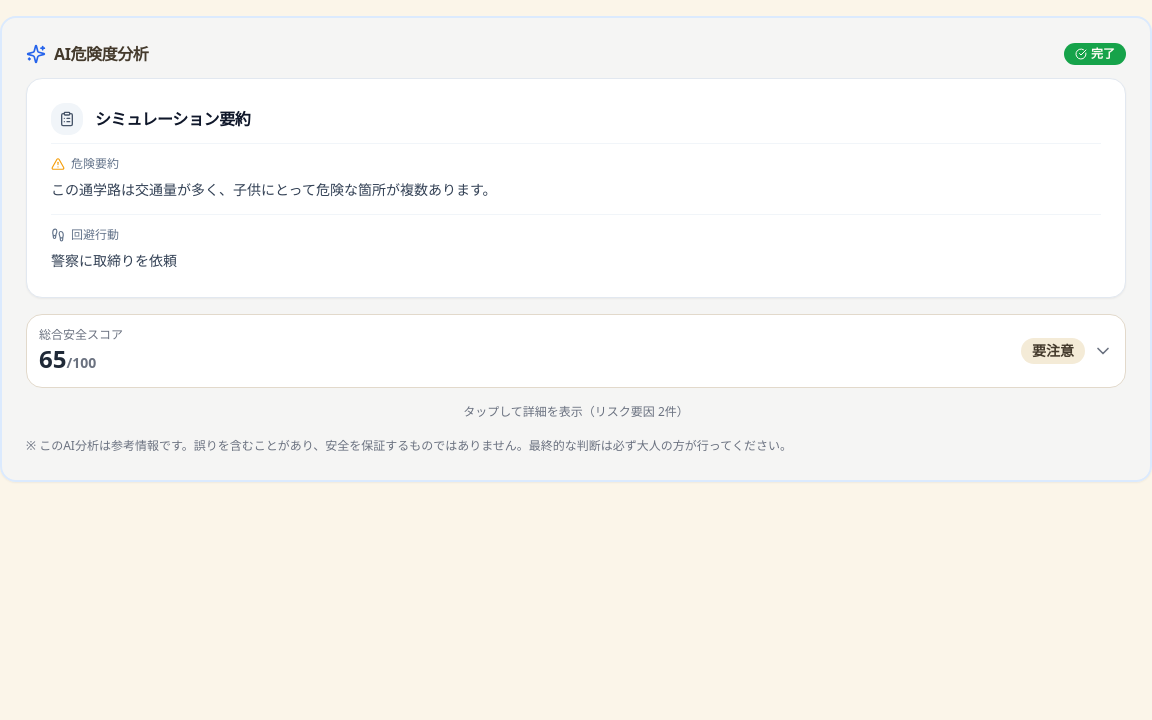
VlmAnalysisPanel › should collapse details when toggle button is clicked again
Step 1. Click the button "総合安全スコア 65/100 要注意" → {"x": 81, "y": 334}, box [26,314,1126,388]
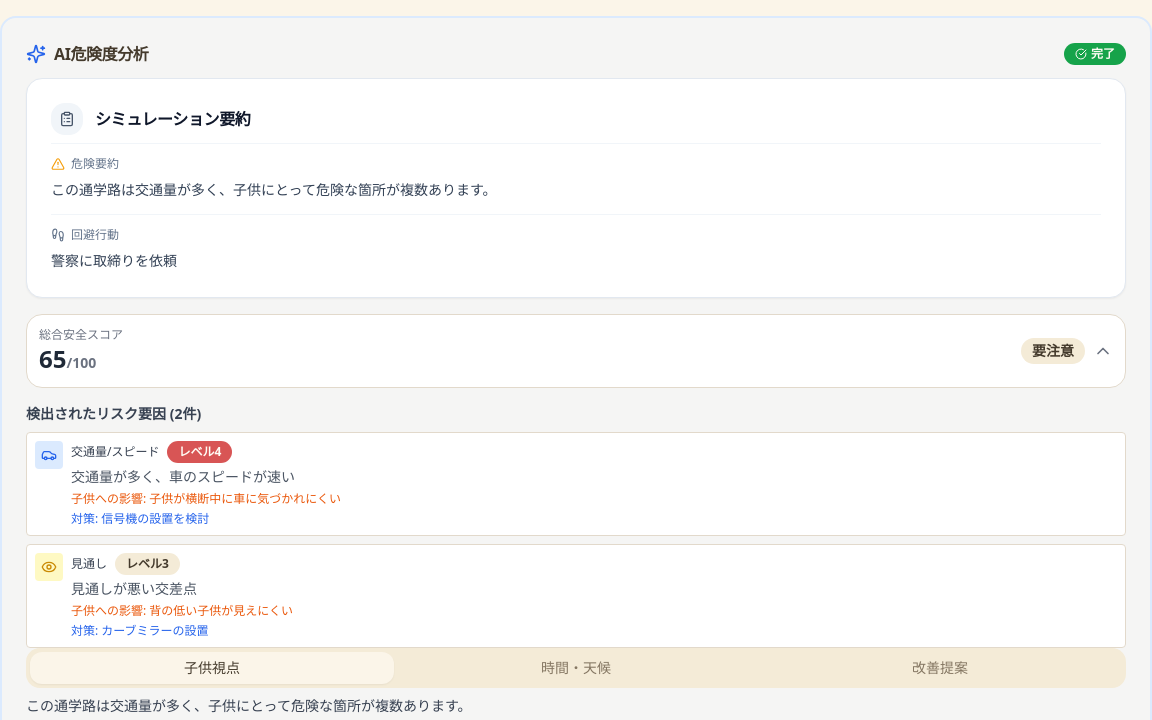
Step 2. Click the button "総合安全スコア 65/100 要注意" → {"x": 81, "y": 334}, box [26,314,1126,388]
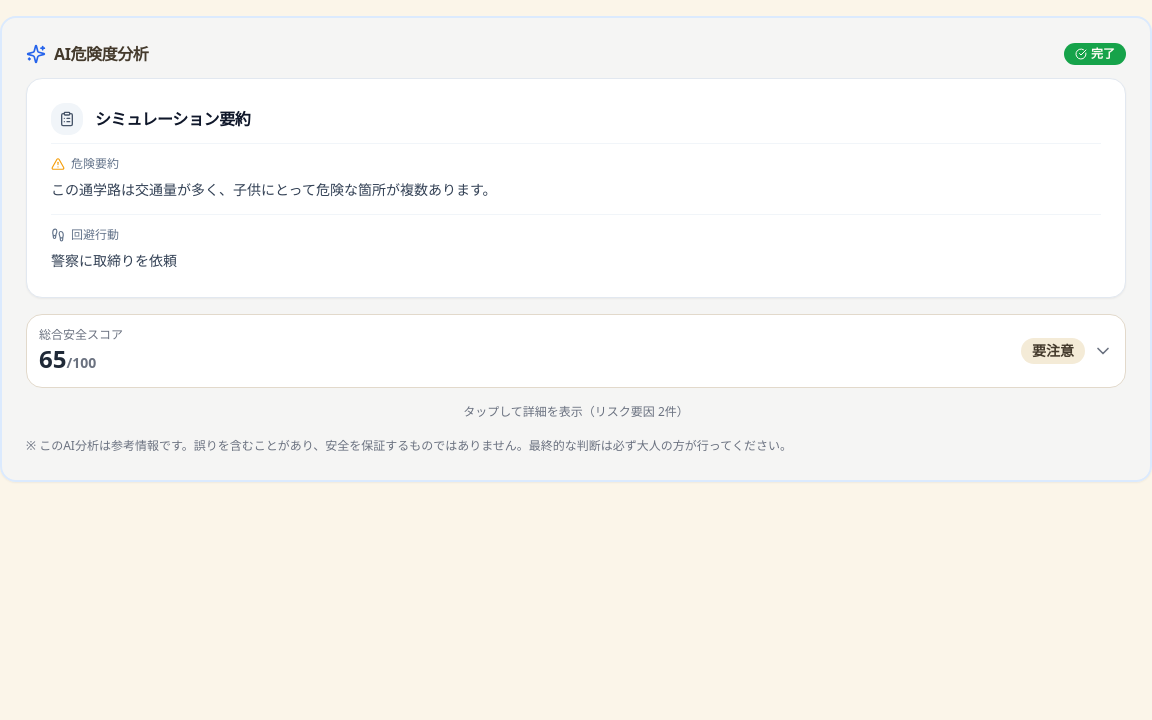
Result: the heading "検出されたリスク要因 (2件)" is gone
Result: the text "タップして詳細を表示（リスク要因 2件）" is shown at [463,403,689,420]
